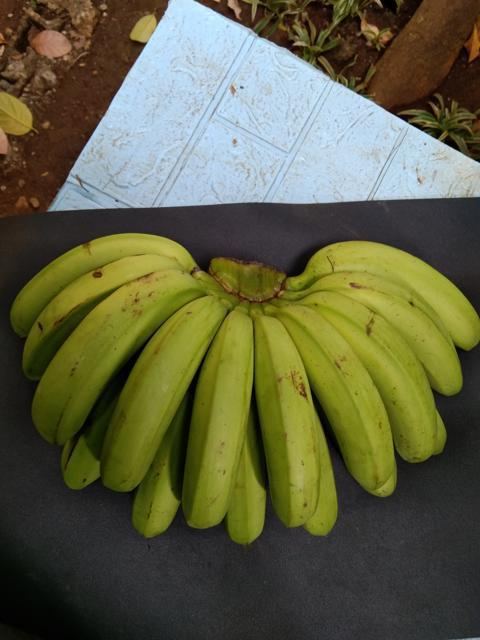freshunripe: (93, 297, 232, 494), (173, 304, 260, 525), (122, 468, 189, 546)
unripe: (30, 267, 231, 446), (309, 281, 446, 466), (282, 312, 402, 489), (10, 251, 172, 376), (247, 301, 333, 530), (324, 268, 471, 400)
